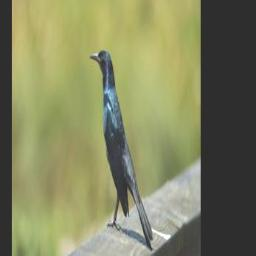Crow: (90, 47, 155, 249)
